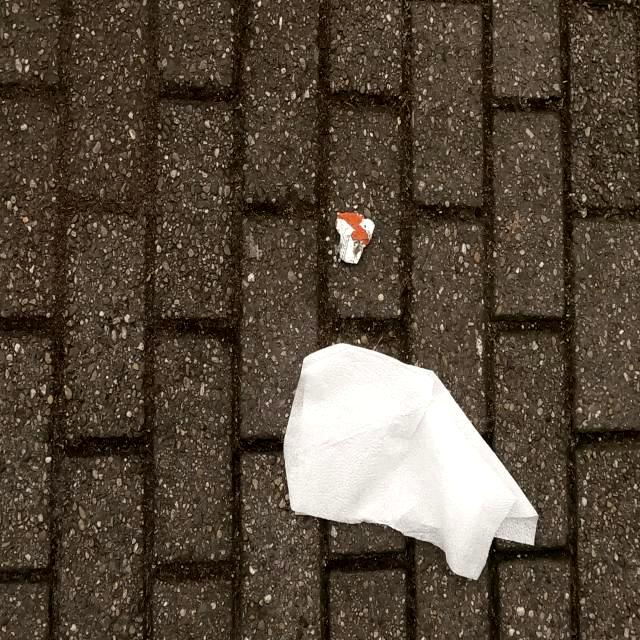Paper: (281, 341, 539, 585)
Plastic: (334, 210, 376, 266)
